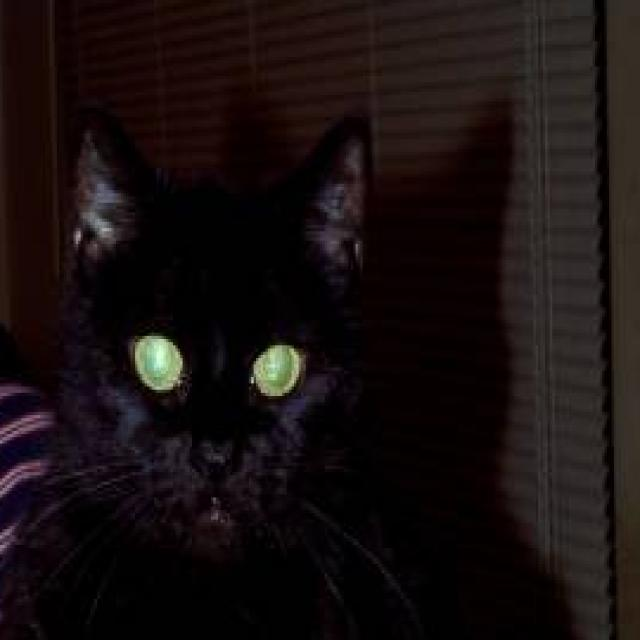Bombay: (0, 98, 434, 640)
